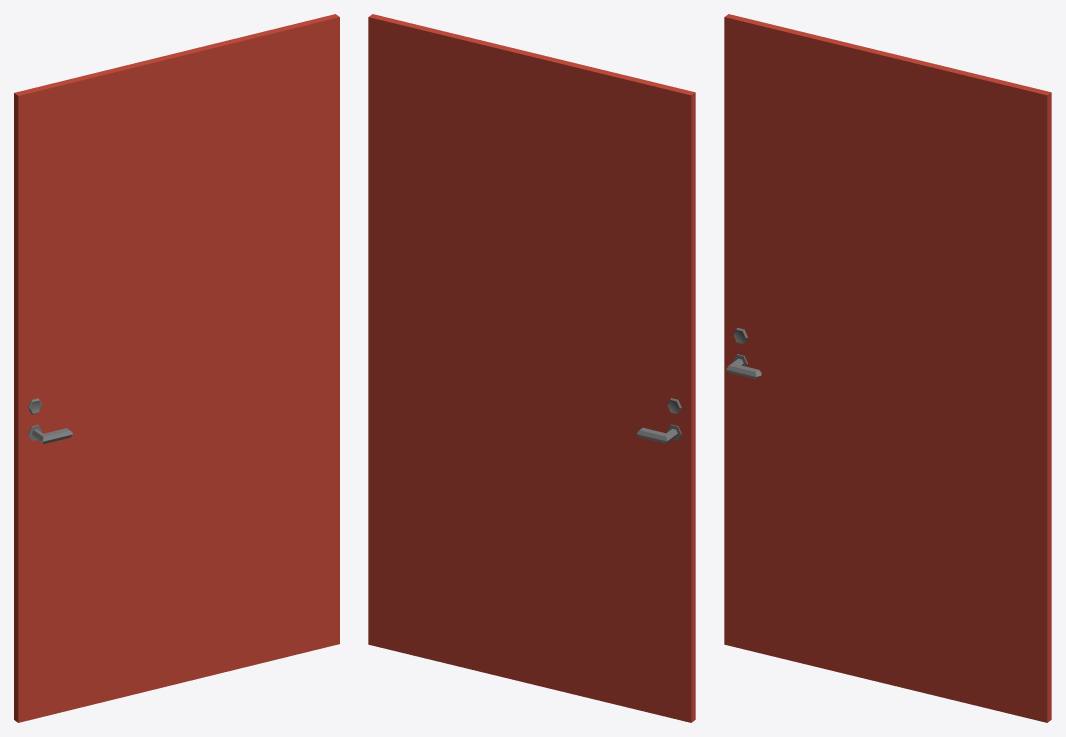
The model's file is SW_corridor__R_lobby_R_Aula_Ovi_005.FBX.
3 renders of one model, left to right at view 1: azimuth 30°, elevation 25°; view 2: azimuth 150°, elevation 25°; view 3: azimuth 330°, elevation 25°, orthographic.
Parts seen in each view (by area): view 1: SW_corridor__R_lobby_R_Aula_Ovi_005; view 2: SW_corridor__R_lobby_R_Aula_Ovi_005; view 3: SW_corridor__R_lobby_R_Aula_Ovi_005.
Part boxes in pixels (left/top/right/bottom): SW_corridor__R_lobby_R_Aula_Ovi_005: left=14, top=14, right=339, bottom=722; SW_corridor__R_lobby_R_Aula_Ovi_005: left=368, top=14, right=695, bottom=722; SW_corridor__R_lobby_R_Aula_Ovi_005: left=724, top=14, right=1051, bottom=722.
Bounding box in the file's own units: 110 × 15.99 × 205.
